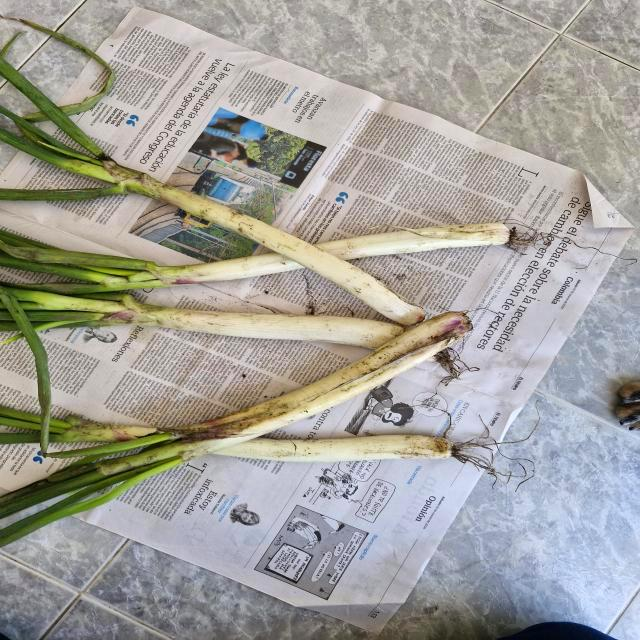green_onion: (0, 300, 479, 560), (0, 103, 432, 330)
